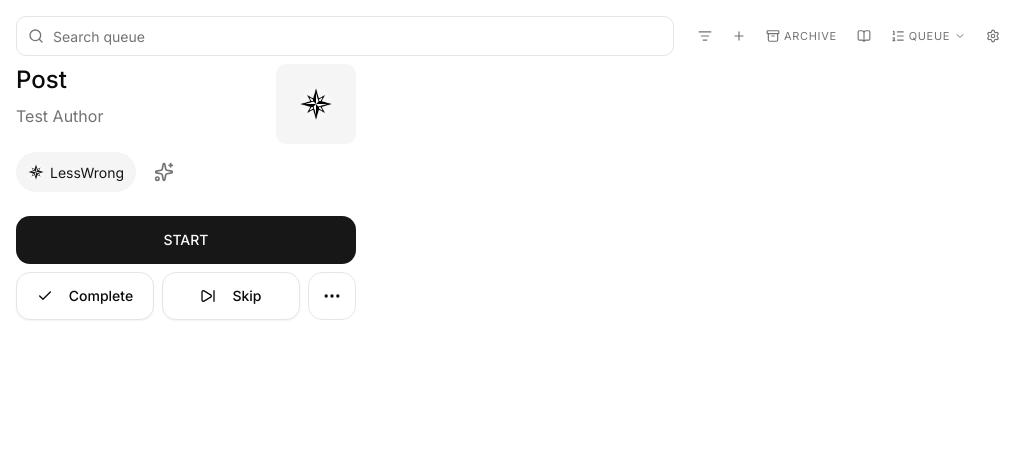
Test case: Convert comments with Askwho Casts (#368) › offers it in the hero menu too
This screenshot has width=1016, height=459.
Press the mouse on the button named "More actions": (332, 296) [308,272,356,320]
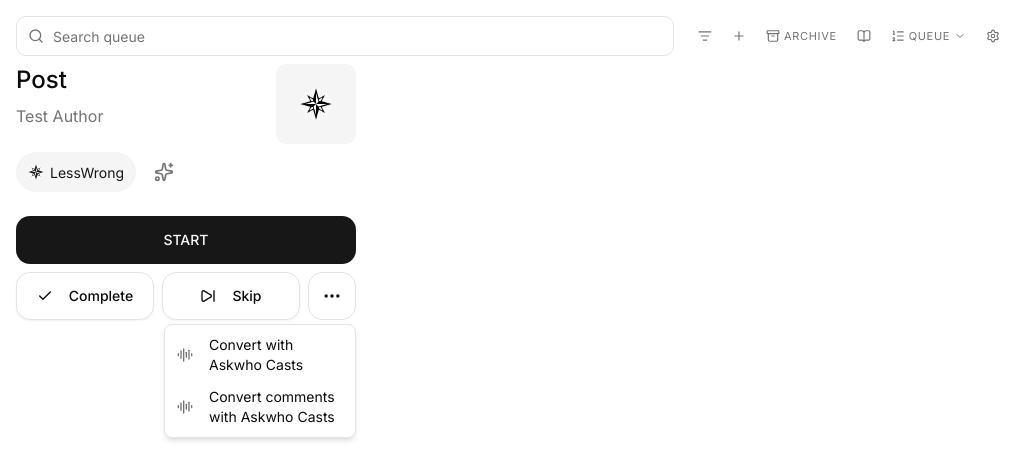
Now the menu item "Convert comments with Askwho Casts" is shown, box [169,381,351,433]
